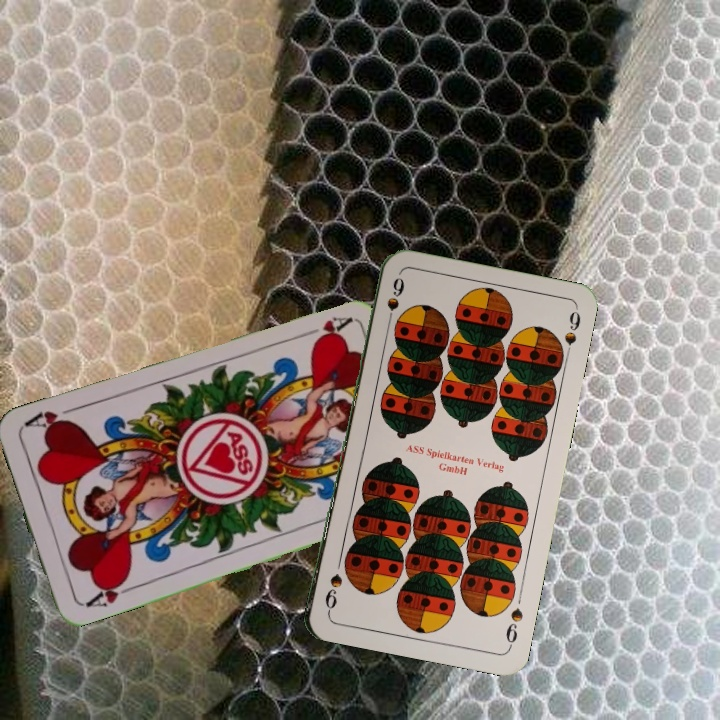HA: (296, 312, 354, 348), (78, 574, 135, 610)
S9: (382, 273, 405, 331), (501, 604, 526, 651)
